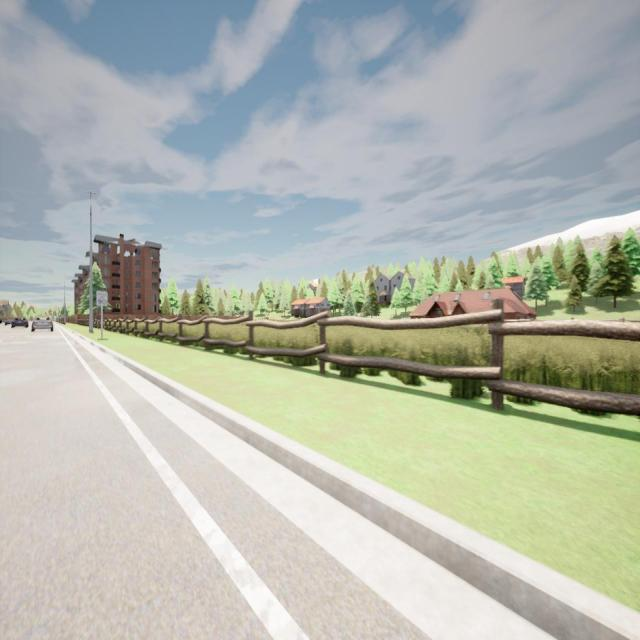Traffic_Signs: (96, 291, 108, 306)
Vehicle: (31, 315, 53, 332), (12, 317, 28, 328), (5, 319, 12, 326)
